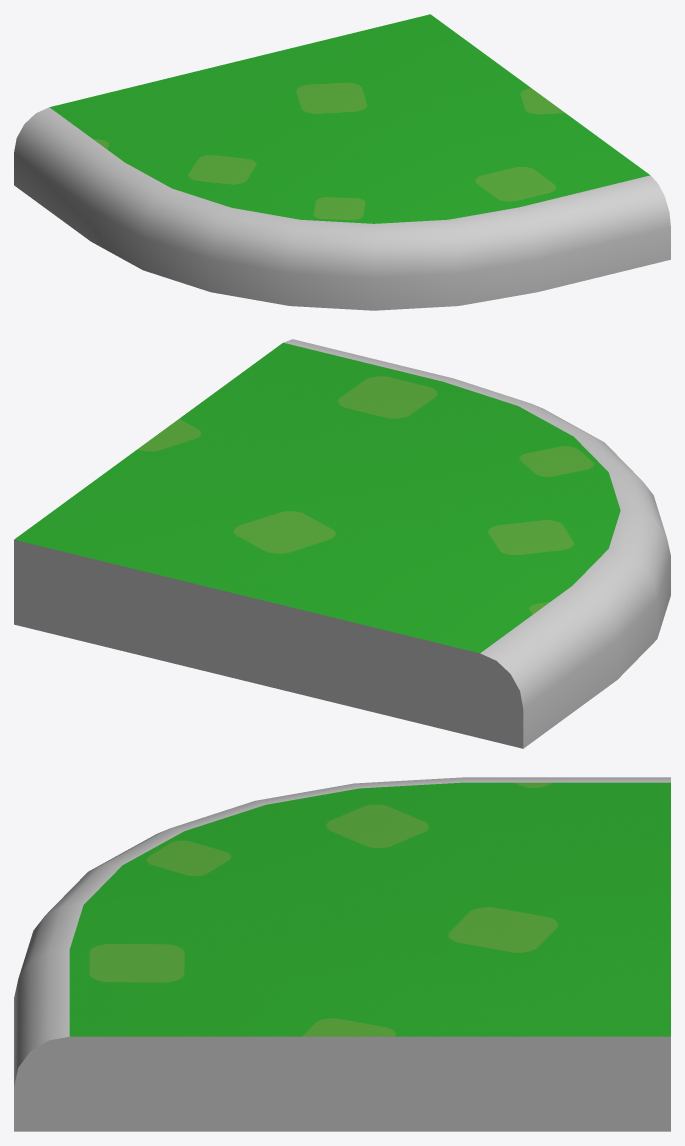
The model's file is GrassFloor_Corner_1.fbx.
The picture shows the model from 3 angles, top to bottom: view 1: azimuth 30°, elevation 25°; view 2: azimuth 150°, elevation 25°; view 3: azimuth 270°, elevation 25°; orthographic projection. The views are drawn at different scales.
Visible parts, largest first — view 1: GrassFloor_Corner_1; view 2: GrassFloor_Corner_1; view 3: GrassFloor_Corner_1.
Boxes of the visible parts, x1,y1,x2,y2 form: GrassFloor_Corner_1: [14, 14, 670, 310]; GrassFloor_Corner_1: [14, 339, 670, 748]; GrassFloor_Corner_1: [14, 777, 670, 1131].
Size of the model in its own units: 2 by 0.3187 by 2.
